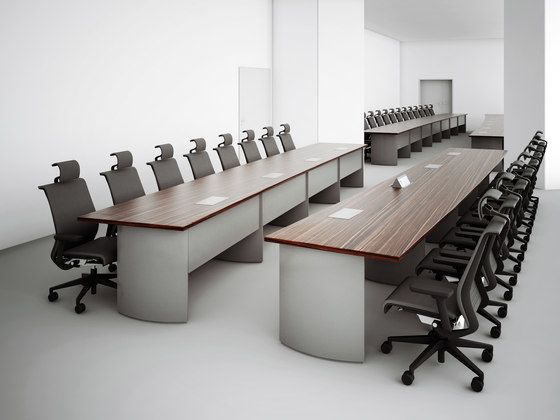conference_table: (263, 147, 507, 362), (78, 143, 366, 324), (364, 109, 468, 165), (468, 112, 505, 148)
